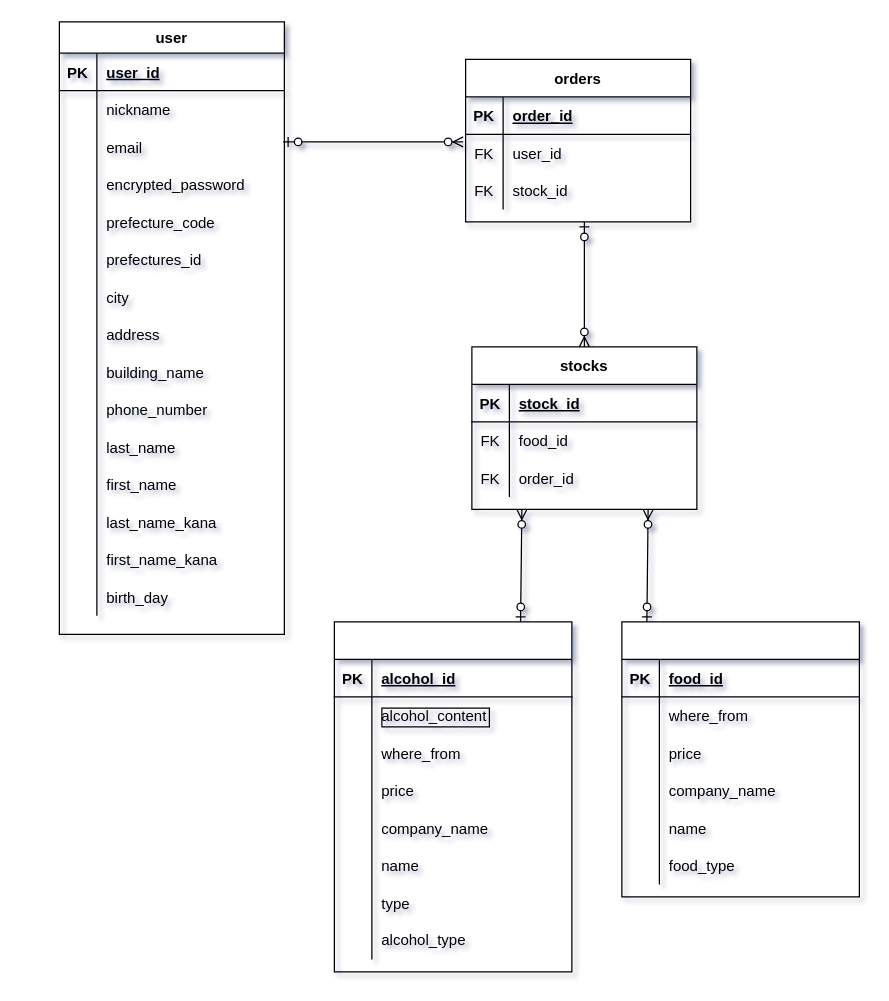
Some shapes in this 889 by 1001 pixel diagram are drawn without their labels. The box of each missing label's shape, as (x1, y1, x2, y2) in pixels:
alcohols: (333, 621, 572, 972)
foods: (621, 621, 859, 897)
